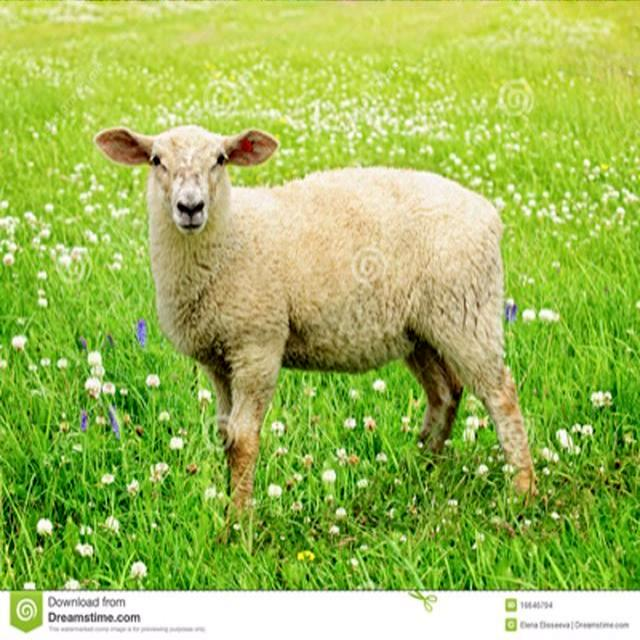sheep: (96, 124, 536, 545)
